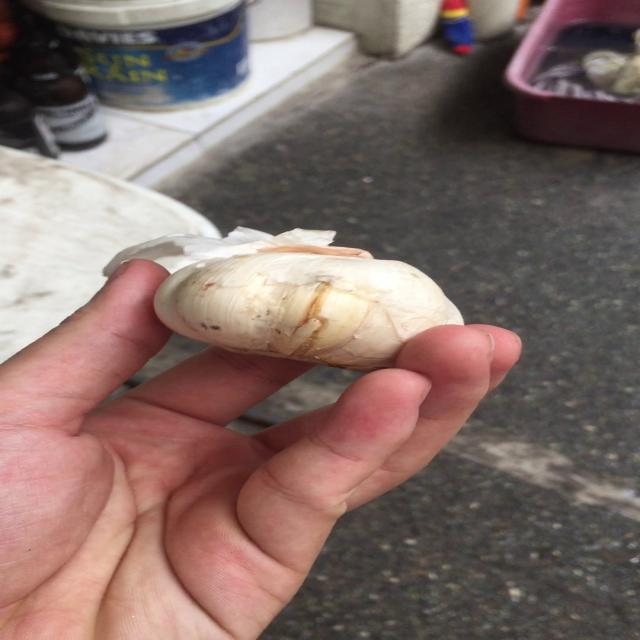garlic: (143, 237, 465, 376)
